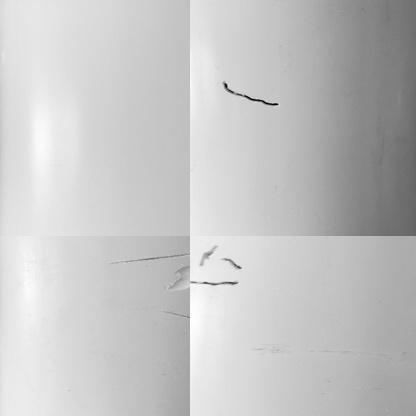fengxi: (219, 78, 280, 111), (190, 275, 238, 288), (194, 243, 216, 269), (224, 251, 243, 273)
sunshang: (104, 248, 187, 262), (164, 264, 186, 293)
